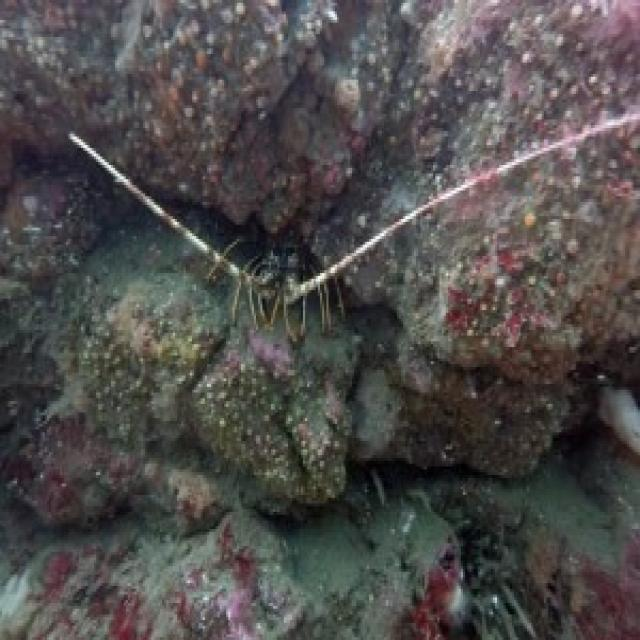lobsters: (156, 136, 392, 349)
